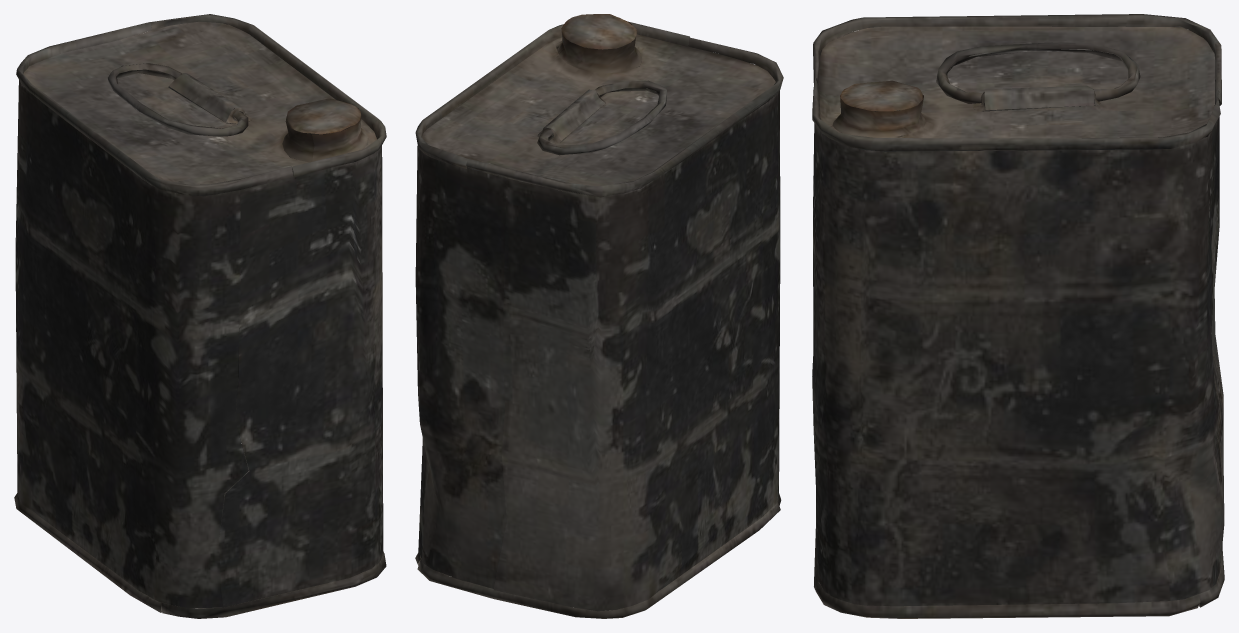
Rendered from oil_tin.glb.
The picture shows the model from 3 angles, left to right: view 1: azimuth 30°, elevation 25°; view 2: azimuth 150°, elevation 25°; view 3: azimuth 270°, elevation 25°; orthographic projection. The views are drawn at different scales.
Visible parts, largest first — view 1: oil_tin; view 2: oil_tin; view 3: oil_tin.
Part boxes in pixels (x1,y1,x2,y2): oil_tin: [14, 14, 386, 618]; oil_tin: [415, 14, 783, 618]; oil_tin: [812, 14, 1224, 618].
Size of the model in its own units: 0.1145 by 0.2053 by 0.1535.
Materials: 1 (1 with a texture image).
